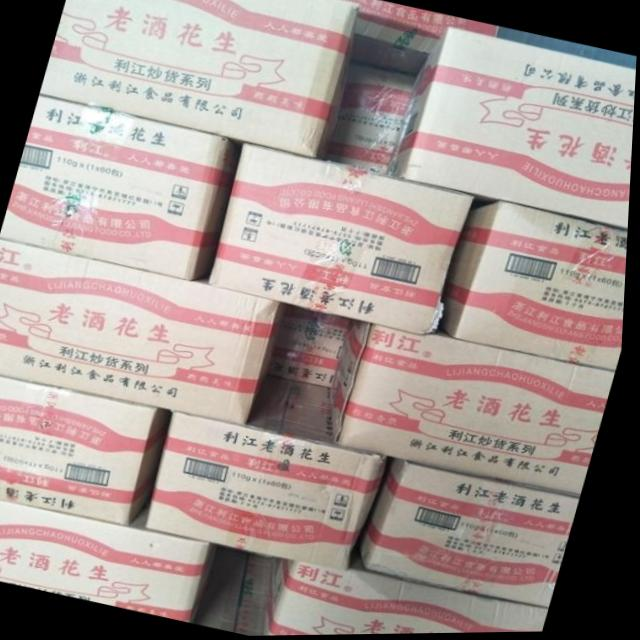box: (0, 237, 282, 427), (212, 142, 476, 337), (333, 322, 620, 500), (39, 0, 358, 160), (393, 25, 637, 230), (150, 373, 393, 574), (1, 95, 237, 280), (367, 459, 585, 609), (446, 202, 630, 370), (0, 500, 220, 623), (0, 375, 167, 526), (271, 560, 553, 637), (333, 0, 498, 75), (323, 65, 414, 177), (202, 548, 280, 637), (276, 307, 353, 387)
